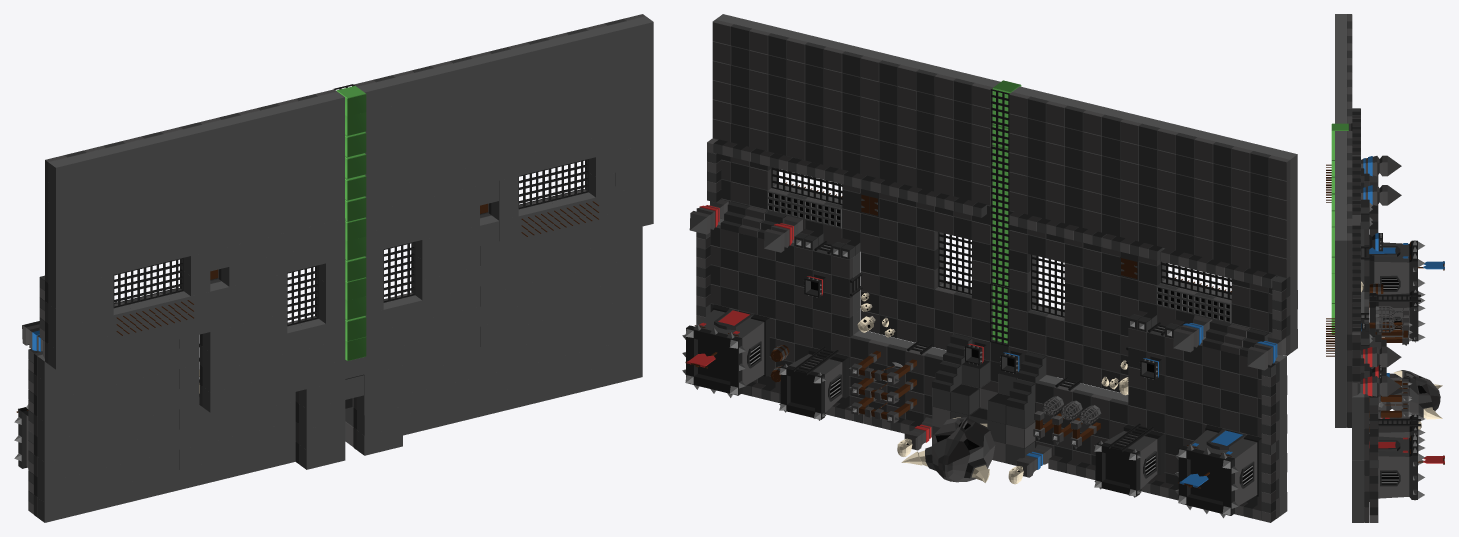
Rendered from lobby2.fbx.
3 views of the same model, side by side, from view 1: azimuth 30°, elevation 25°; view 2: azimuth 150°, elevation 25°; view 3: azimuth 270°, elevation 25° (orthographic). The views are drawn at different scales.
Parts seen in each view (by area): view 1: Floor01__187_; view 2: Floor01__187_; view 3: Floor01__187_.
Part boxes in pixels (bbox=[...]): Floor01__187_: bbox=[14, 14, 653, 522]; Floor01__187_: bbox=[682, 14, 1297, 522]; Floor01__187_: bbox=[1326, 14, 1444, 522].
Bounding box in the file's own units: 2443 × 1466 × 541.
